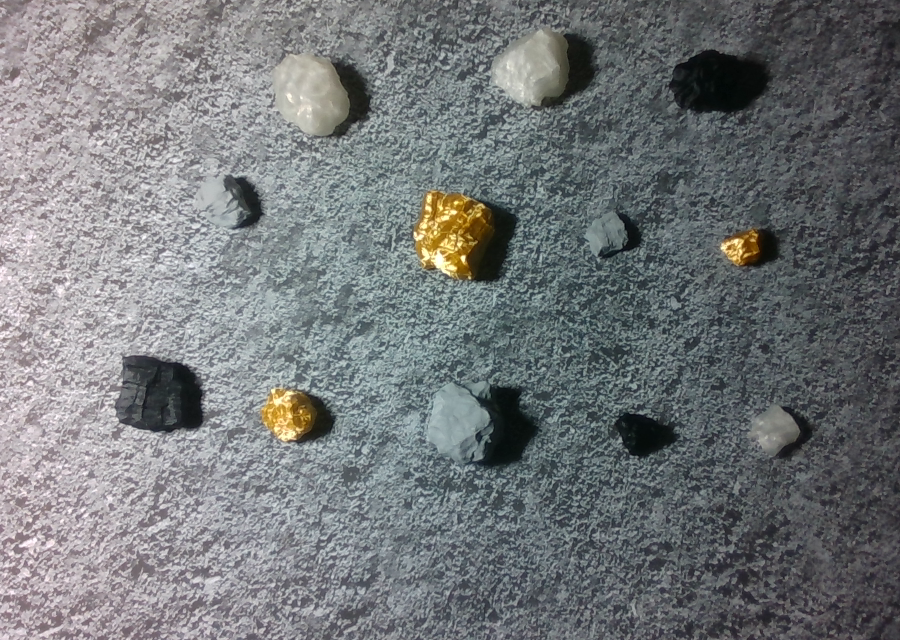anorthosite: (270, 52, 351, 137), (489, 27, 571, 109), (750, 404, 800, 458)
basalt: (116, 355, 192, 433), (667, 49, 744, 113), (614, 413, 661, 457)
metal: (412, 188, 497, 281), (259, 386, 318, 444), (719, 228, 766, 268)
regolith: (426, 377, 504, 466), (194, 173, 253, 231), (583, 210, 631, 259)
